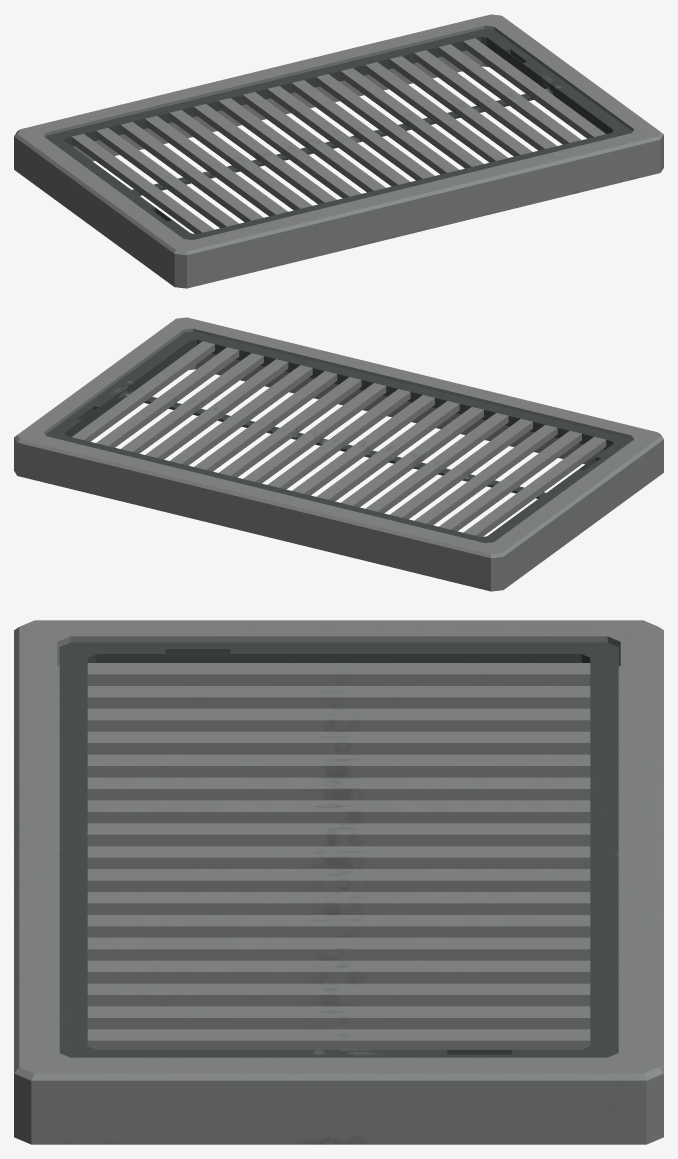
Rendered from manhole_cover_rectangular.glb.
3 views of the same model, one above another, from view 1: azimuth 30°, elevation 25°; view 2: azimuth 150°, elevation 25°; view 3: azimuth 270°, elevation 25° (orthographic). The views are drawn at different scales.
Parts seen in each view (by area): view 1: ManholeCoverRectangular; view 2: ManholeCoverRectangular; view 3: ManholeCoverRectangular.
Part boxes in pixels (x1=…): ManholeCoverRectangular: x1=14, y1=14, x2=663, y2=288; ManholeCoverRectangular: x1=14, y1=317, x2=663, y2=591; ManholeCoverRectangular: x1=14, y1=620, x2=663, y2=1144.
Bounding box in the file's own units: 1 × 0.07 × 0.6.
Materials: 1 (1 with a texture image).
